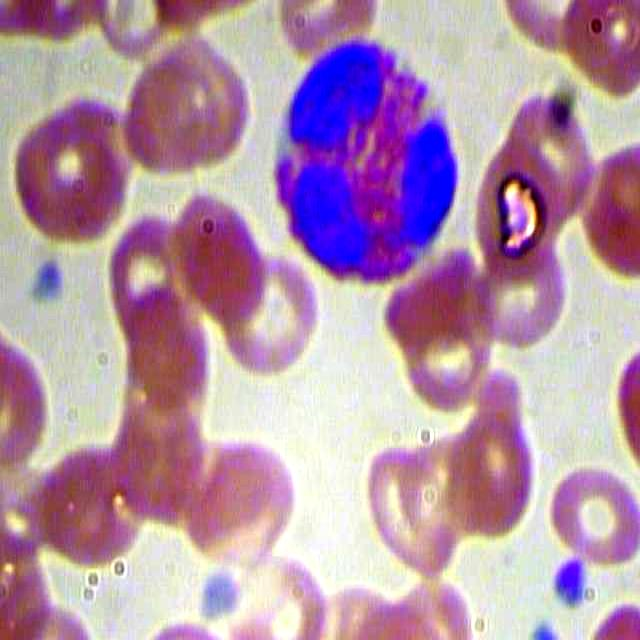Platelets: (27, 253, 72, 315), (545, 557, 593, 604)
RBC: (116, 33, 254, 191), (11, 97, 128, 252), (467, 130, 569, 290), (354, 440, 458, 583), (166, 187, 269, 324), (445, 399, 538, 545), (214, 254, 321, 378), (469, 234, 570, 358), (547, 449, 640, 572)
WBC: (262, 22, 467, 294)
